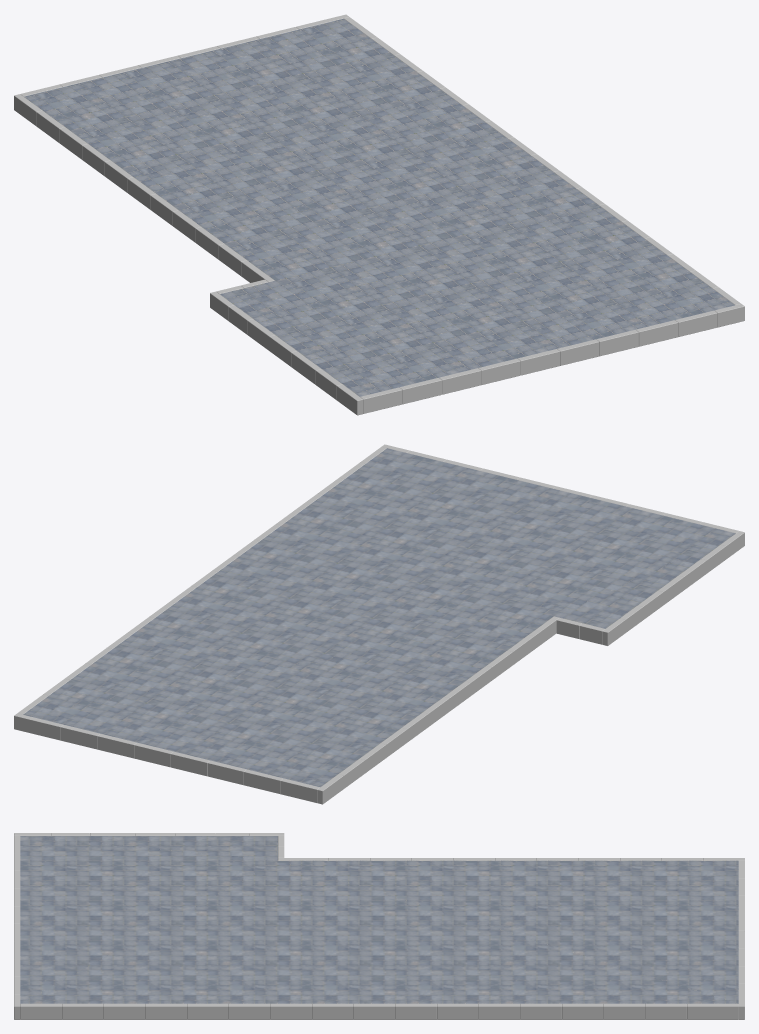
Rendered from SM_Gidan02E.fbx.
The picture shows the model from 3 angles, top to bottom: view 1: azimuth 30°, elevation 25°; view 2: azimuth 150°, elevation 25°; view 3: azimuth 270°, elevation 25°; orthographic projection. The views are drawn at different scales.
Visible parts, largest first — view 1: SM_Gidan02E; view 2: SM_Gidan02E; view 3: SM_Gidan02E.
Part boxes in pixels (x1,y1,x2,y2): SM_Gidan02E: [14, 14, 744, 415]; SM_Gidan02E: [14, 444, 744, 804]; SM_Gidan02E: [14, 833, 744, 1019].
Bounding box in the file's own units: 1014 × 1807 × 37.06.
